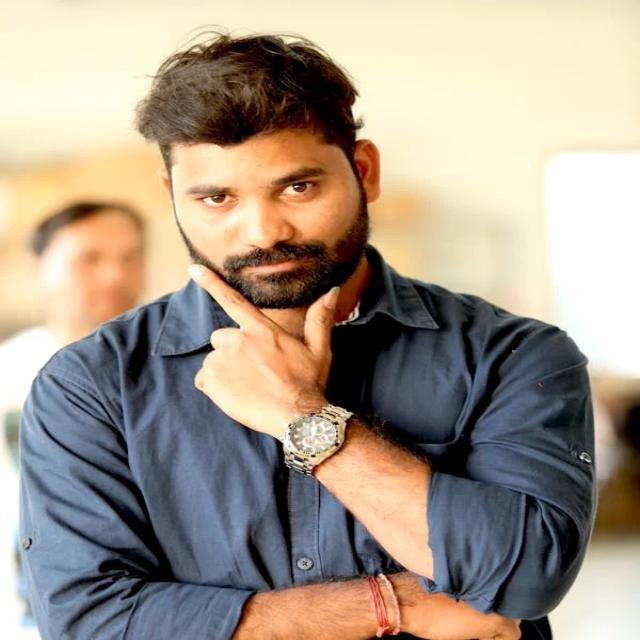Real human 2: (18, 24, 605, 640)
